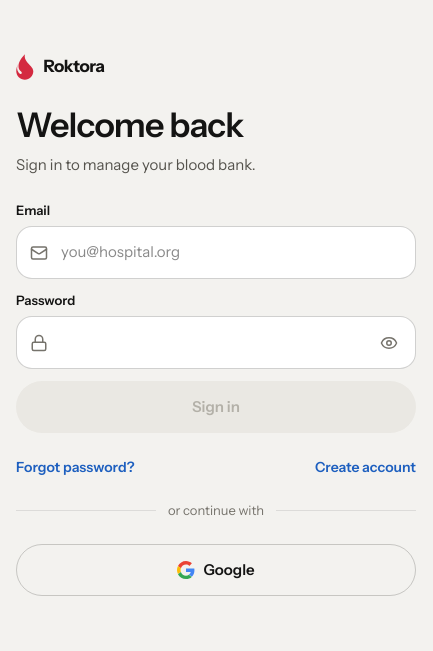
Scenario: login page › explains an unauthorised domain when Google sign-in fails
This screenshot has width=433, height=651.
Step 1. Click the button "Google" → click(216, 570), box top-left (16, 544), bottom-right (416, 596)
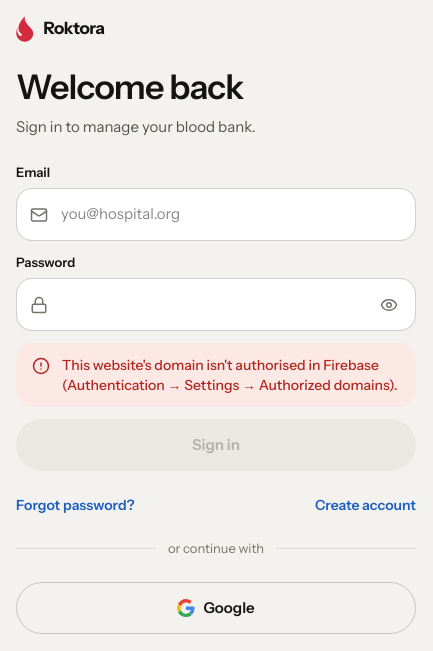
Expected: the message shows "Authorized domains", top-left (62, 356), bottom-right (397, 394)
